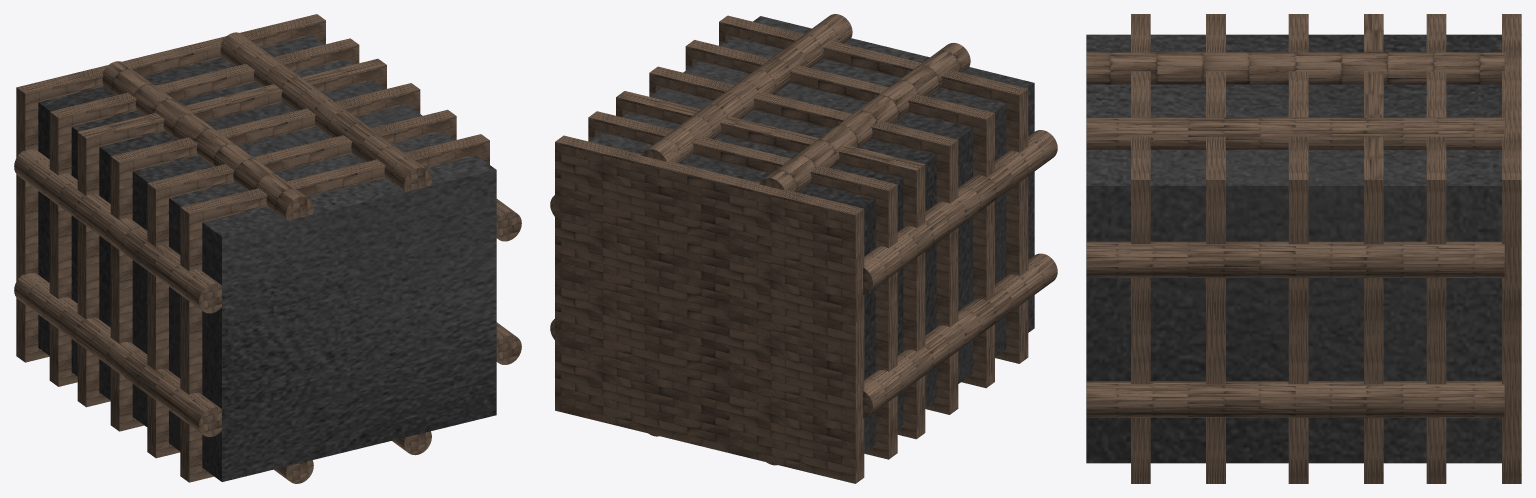
File: torre2.fbx
The picture shows the model from 3 angles, left to right: view 1: azimuth 30°, elevation 25°; view 2: azimuth 150°, elevation 25°; view 3: azimuth 270°, elevation 25°; orthographic projection. The views are drawn at different scales.
Visible parts, largest first — view 1: 3build; view 2: 3build; view 3: 3build.
Boxes of the visible parts, left/top/right/bottom form: 3build: left=14, top=14, right=521, bottom=483; 3build: left=550, top=14, right=1057, bottom=483; 3build: left=1086, top=14, right=1521, bottom=483.
Bounding box in the file's own units: 81.02 × 68.74 × 83.63.
